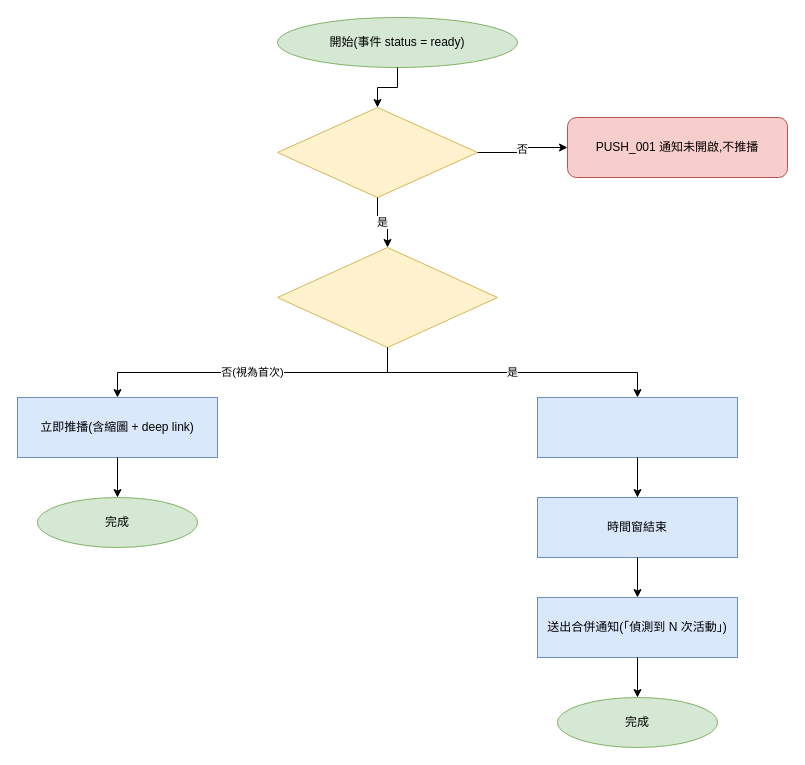
Image size: 805x765. Some labels were removed from this diagram. Each missing label, with the centre of its shape:
使用者已授權通知?: pixel 377 152
同一裝置 5 分鐘內 是否已推播過?: pixel 387 297
累計計數,不逐筆推播: pixel 637 427
